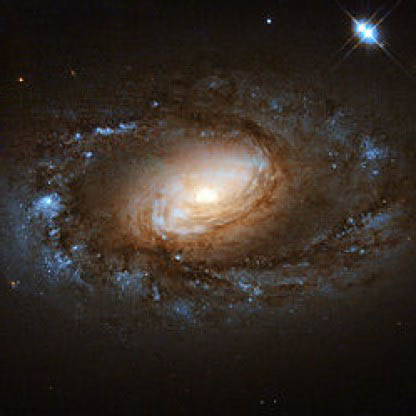NGC 4102: (19, 9, 406, 336)
